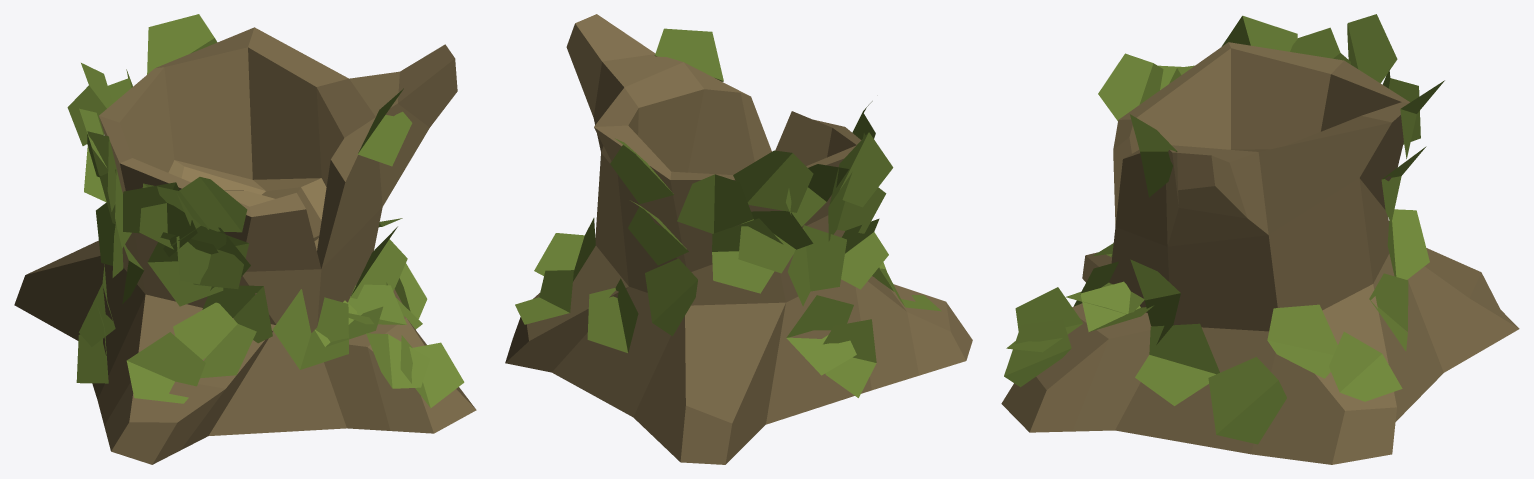
The model's file is Stump_3.fbx.
3 views of the same model, side by side, from view 1: azimuth 30°, elevation 25°; view 2: azimuth 150°, elevation 25°; view 3: azimuth 270°, elevation 25° (orthographic). The views are drawn at different scales.
Parts seen in each view (by area): view 1: Stump_3; view 2: Stump_3; view 3: Stump_3.
Part boxes in pixels (box(x1,y1,x2,y2)): Stump_3: box(14, 14, 476, 464); Stump_3: box(505, 14, 972, 464); Stump_3: box(1001, 14, 1519, 464).
Bounding box in the file's own units: 95.32 × 69.46 × 107.
